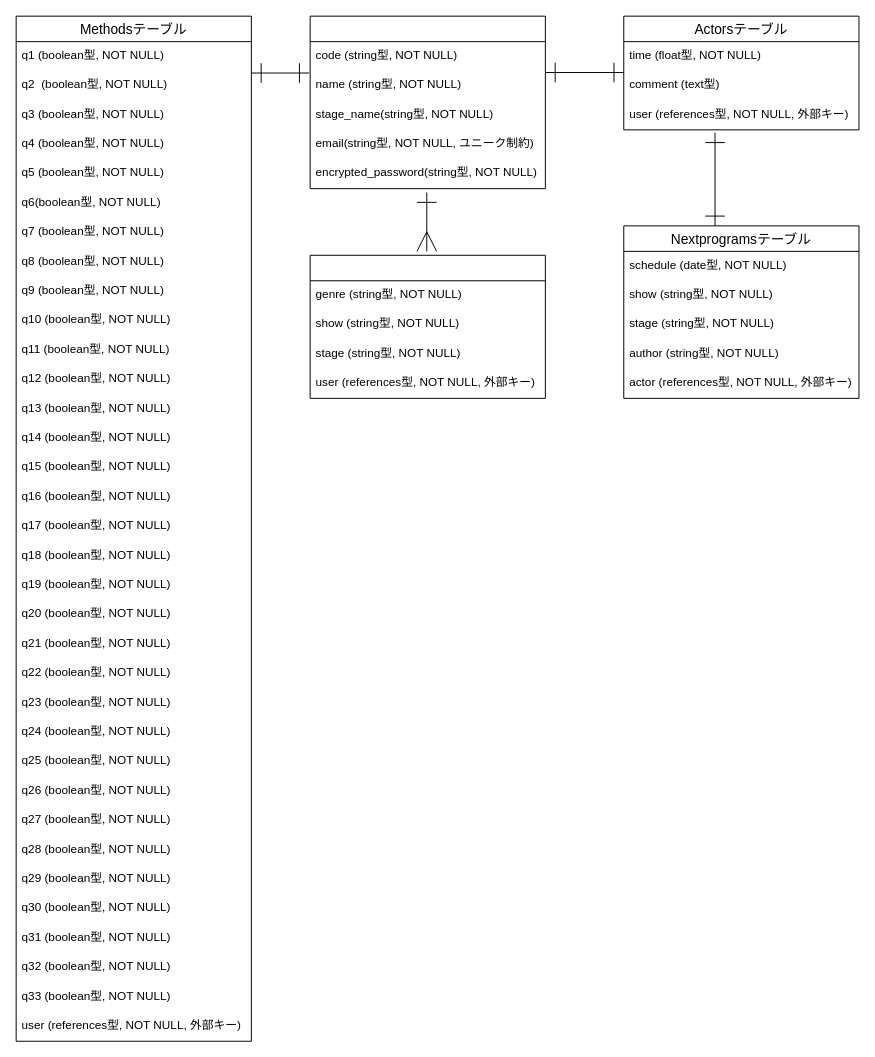
The diagram is 875 pixels wide and 1057 high, and some of its shapes have lost their labels. Each missing label, with the box of its shape:
Staffsテーブル: (309, 254, 545, 398)
Usersテーブル: (309, 15, 545, 189)
